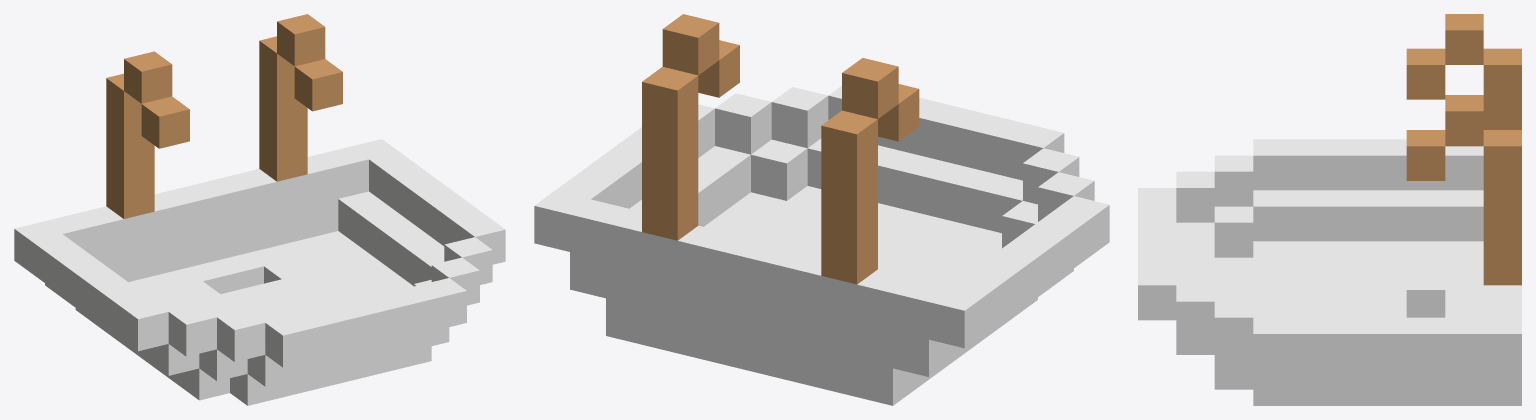
File: Sink.obj
3 renders of one model, left to right at view 1: azimuth 30°, elevation 25°; view 2: azimuth 150°, elevation 25°; view 3: azimuth 270°, elevation 25°, orthographic. The views are drawn at different scales.
Bounding box in the file's own units: 12 × 9 × 10.
Materials: 1 (1 with a texture image).
